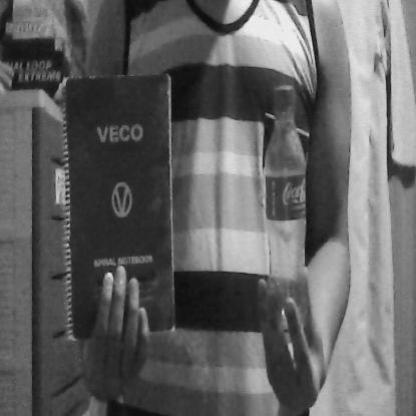Plastic Bottle: (257, 75, 314, 348)
